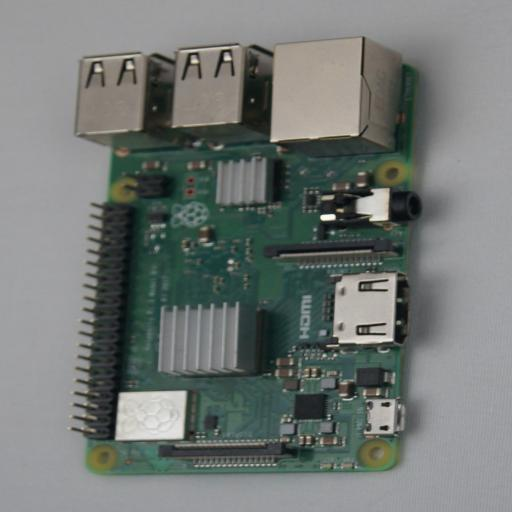Raspberry Pi 3 B-: (71, 37, 441, 475)
